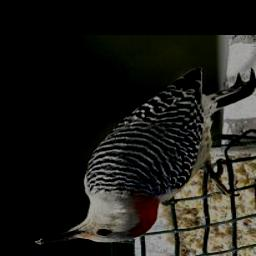Woodpecker: (35, 68, 256, 246)
